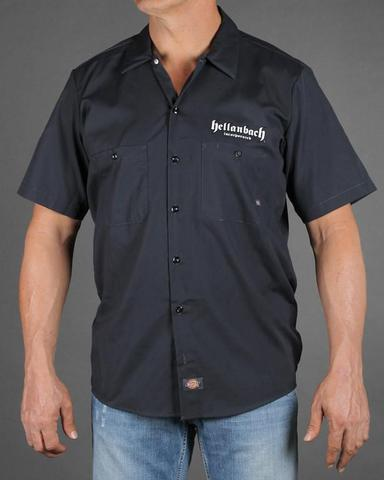Shirt: (16, 17, 382, 419)
